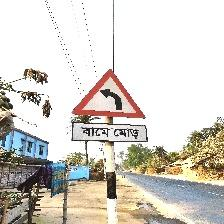Left-Turn: (70, 69, 148, 143)
